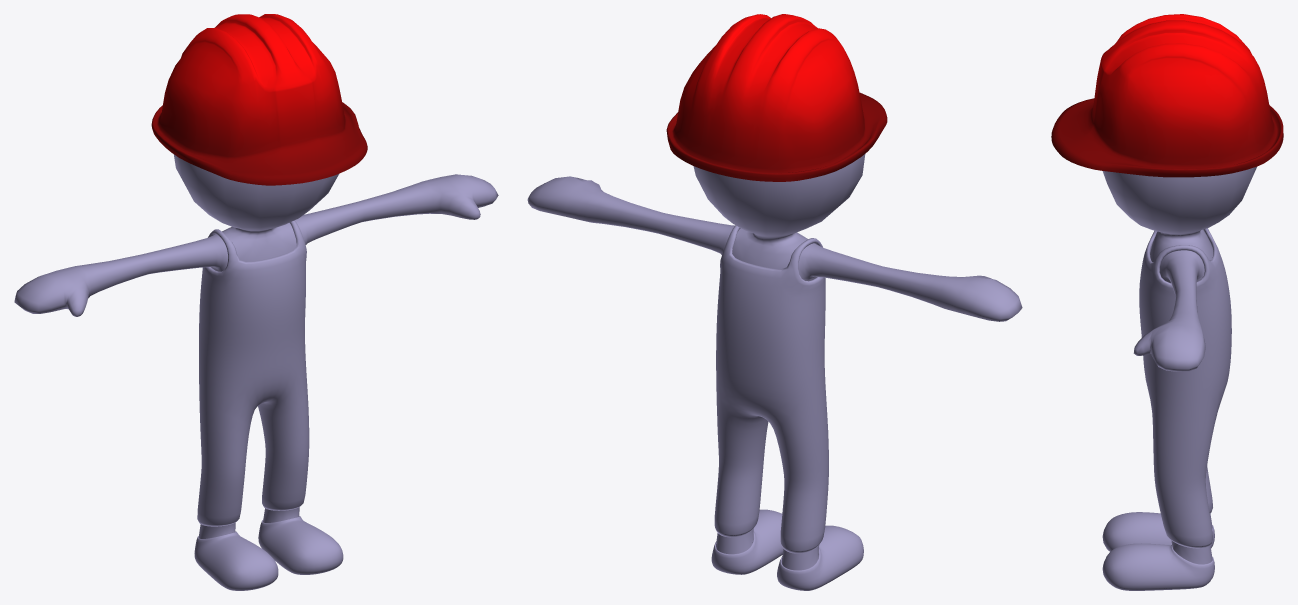
File: Road_Rescue_Character.fbx
3 renders of one model, left to right at view 1: azimuth 30°, elevation 25°; view 2: azimuth 150°, elevation 25°; view 3: azimuth 270°, elevation 25°, orthographic. The views are drawn at different scales.
Parts seen in each view (by area): view 1: Character; view 2: Character; view 3: Character.
Boxes of the visible parts, x1,y1,x2,y2 form: Character: [14, 14, 498, 590]; Character: [527, 14, 1022, 590]; Character: [1051, 14, 1283, 590].
Size of the model in its own units: 1588 by 1717 by 665.
